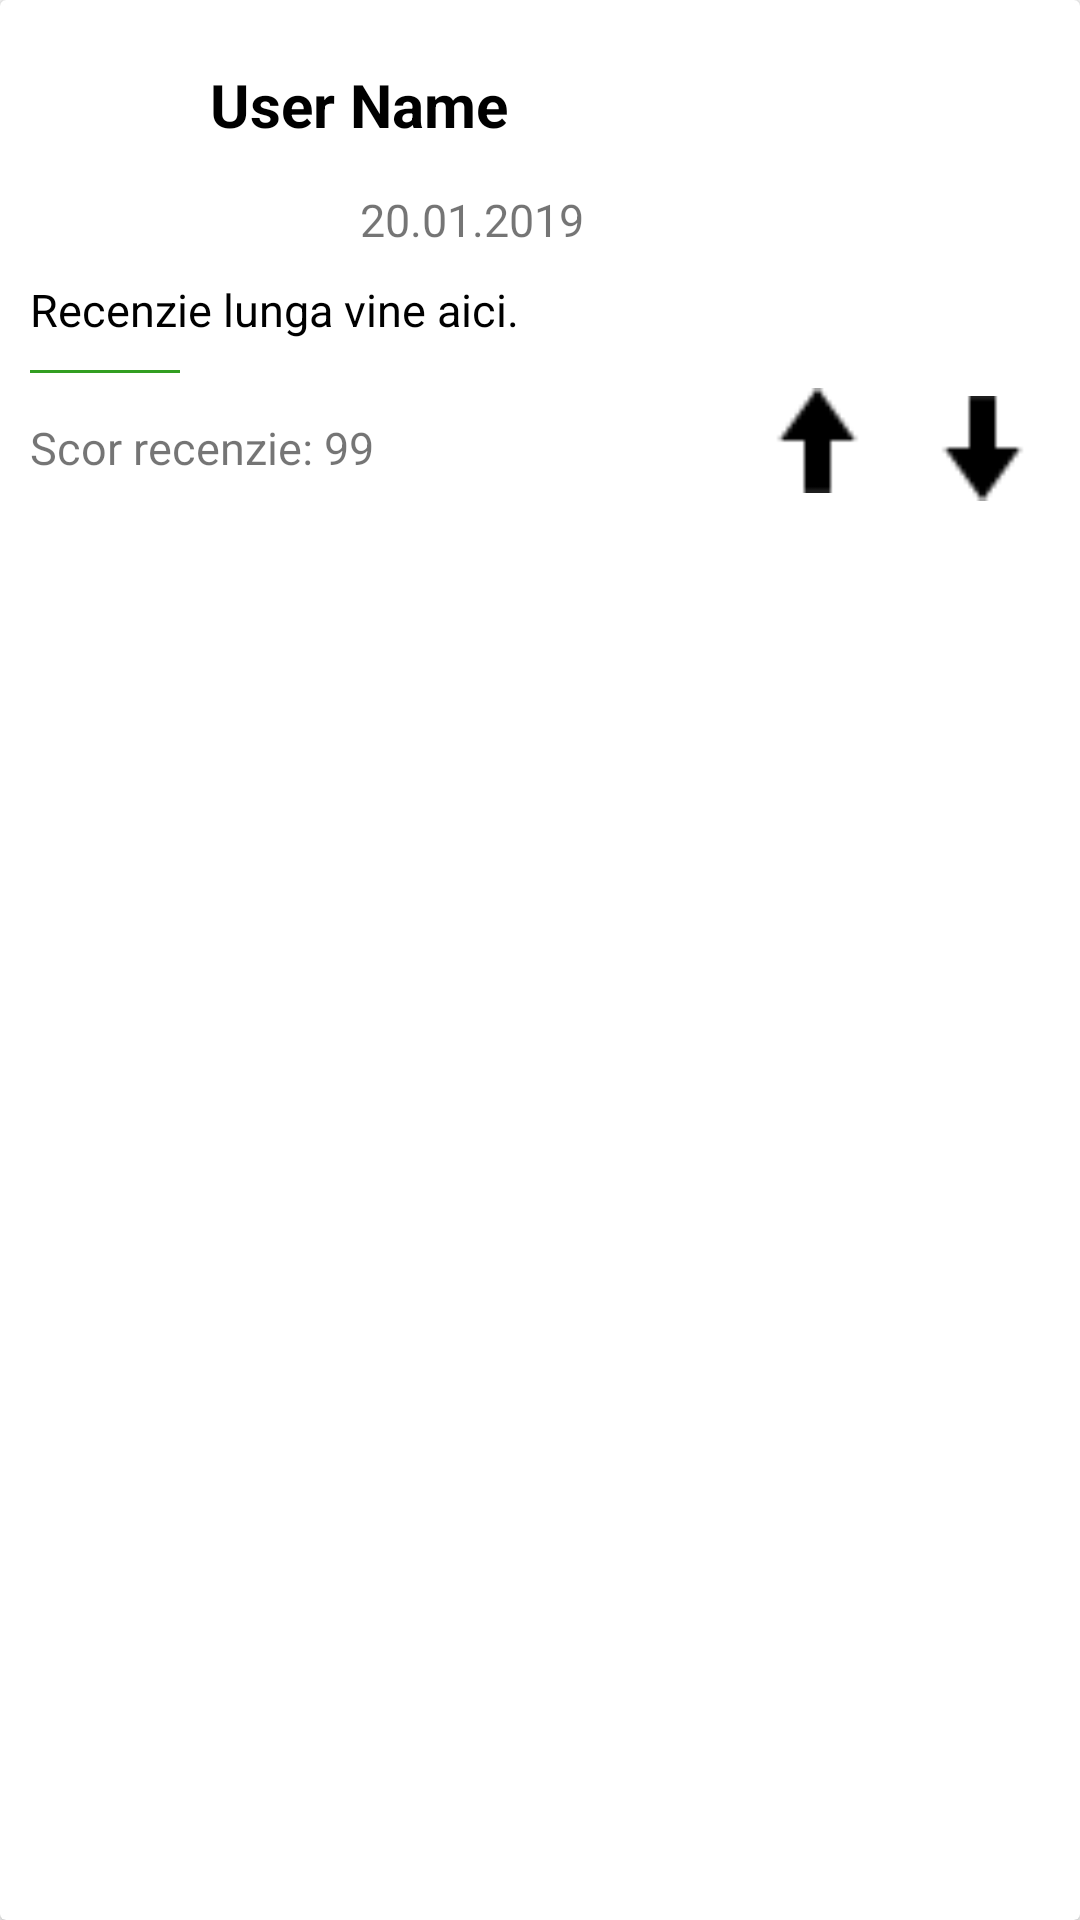

Icons on this 1080x1920 Android screen, each with the point to tap as point (x, y):
downnegru: point (982, 448)
upnegru: point (817, 440)
